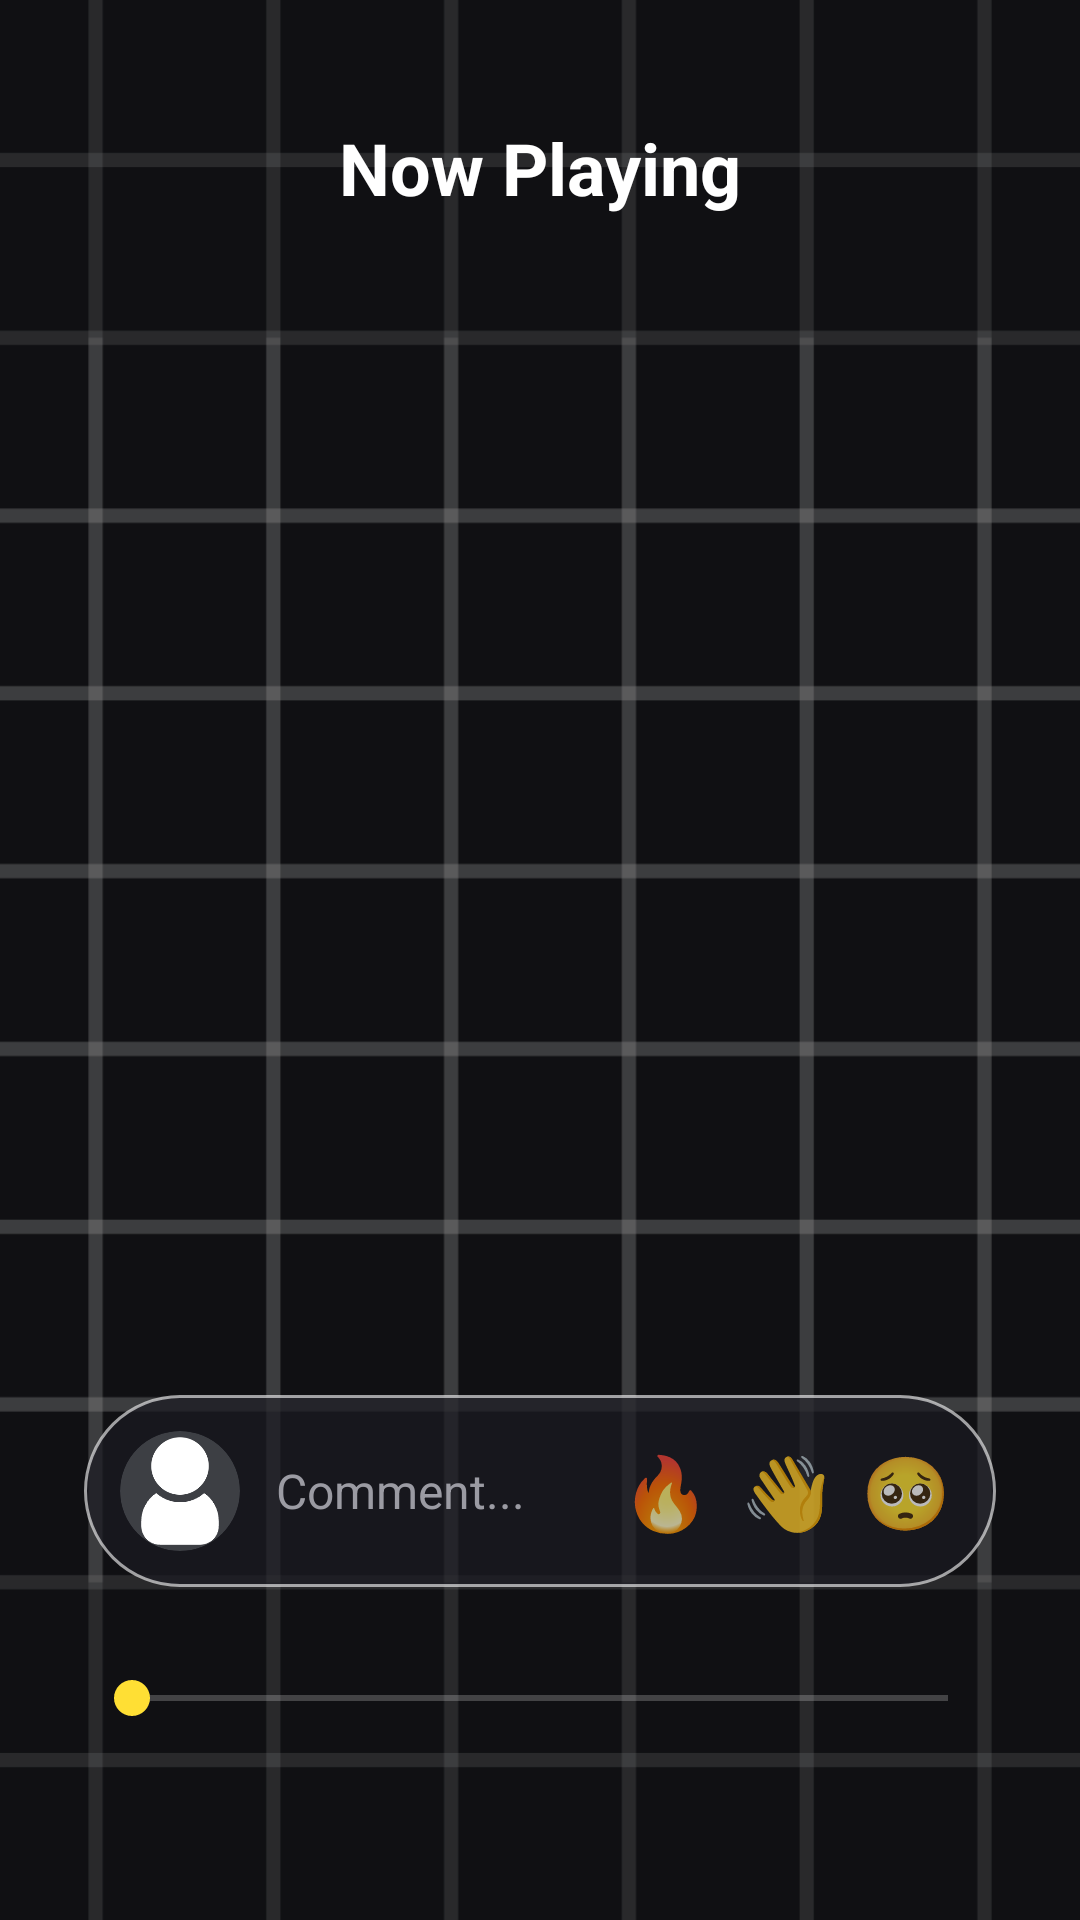

Icons on this 1080px x 1920px Android screen, each with its box as (x1, y1, x2, y2):
Ảnh đại diện người bình luận: (120, 1431, 240, 1551)
